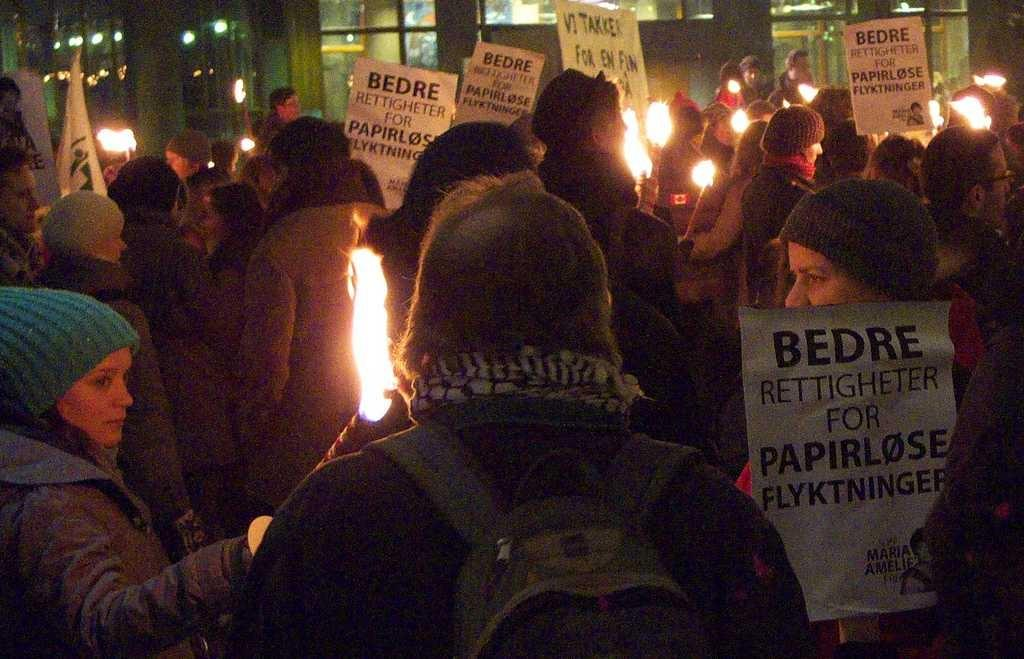fire: (338, 243, 410, 413), (616, 106, 722, 191), (944, 70, 1018, 133), (93, 121, 148, 157)
